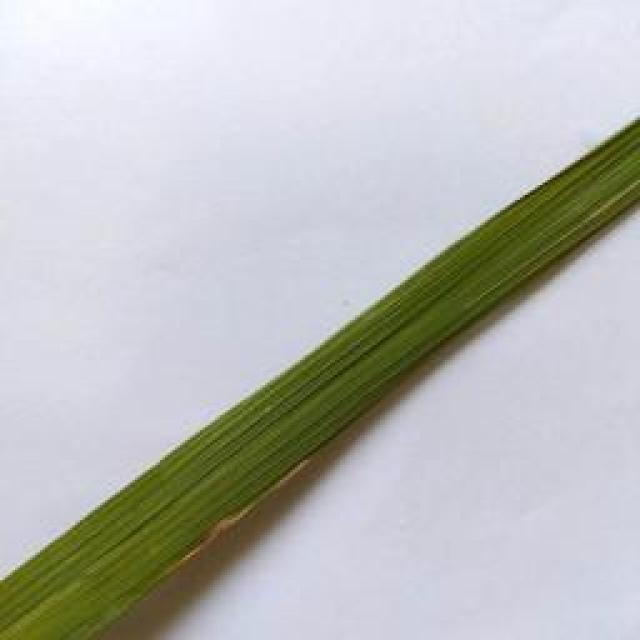Rice_Blast: (144, 430, 347, 602)
